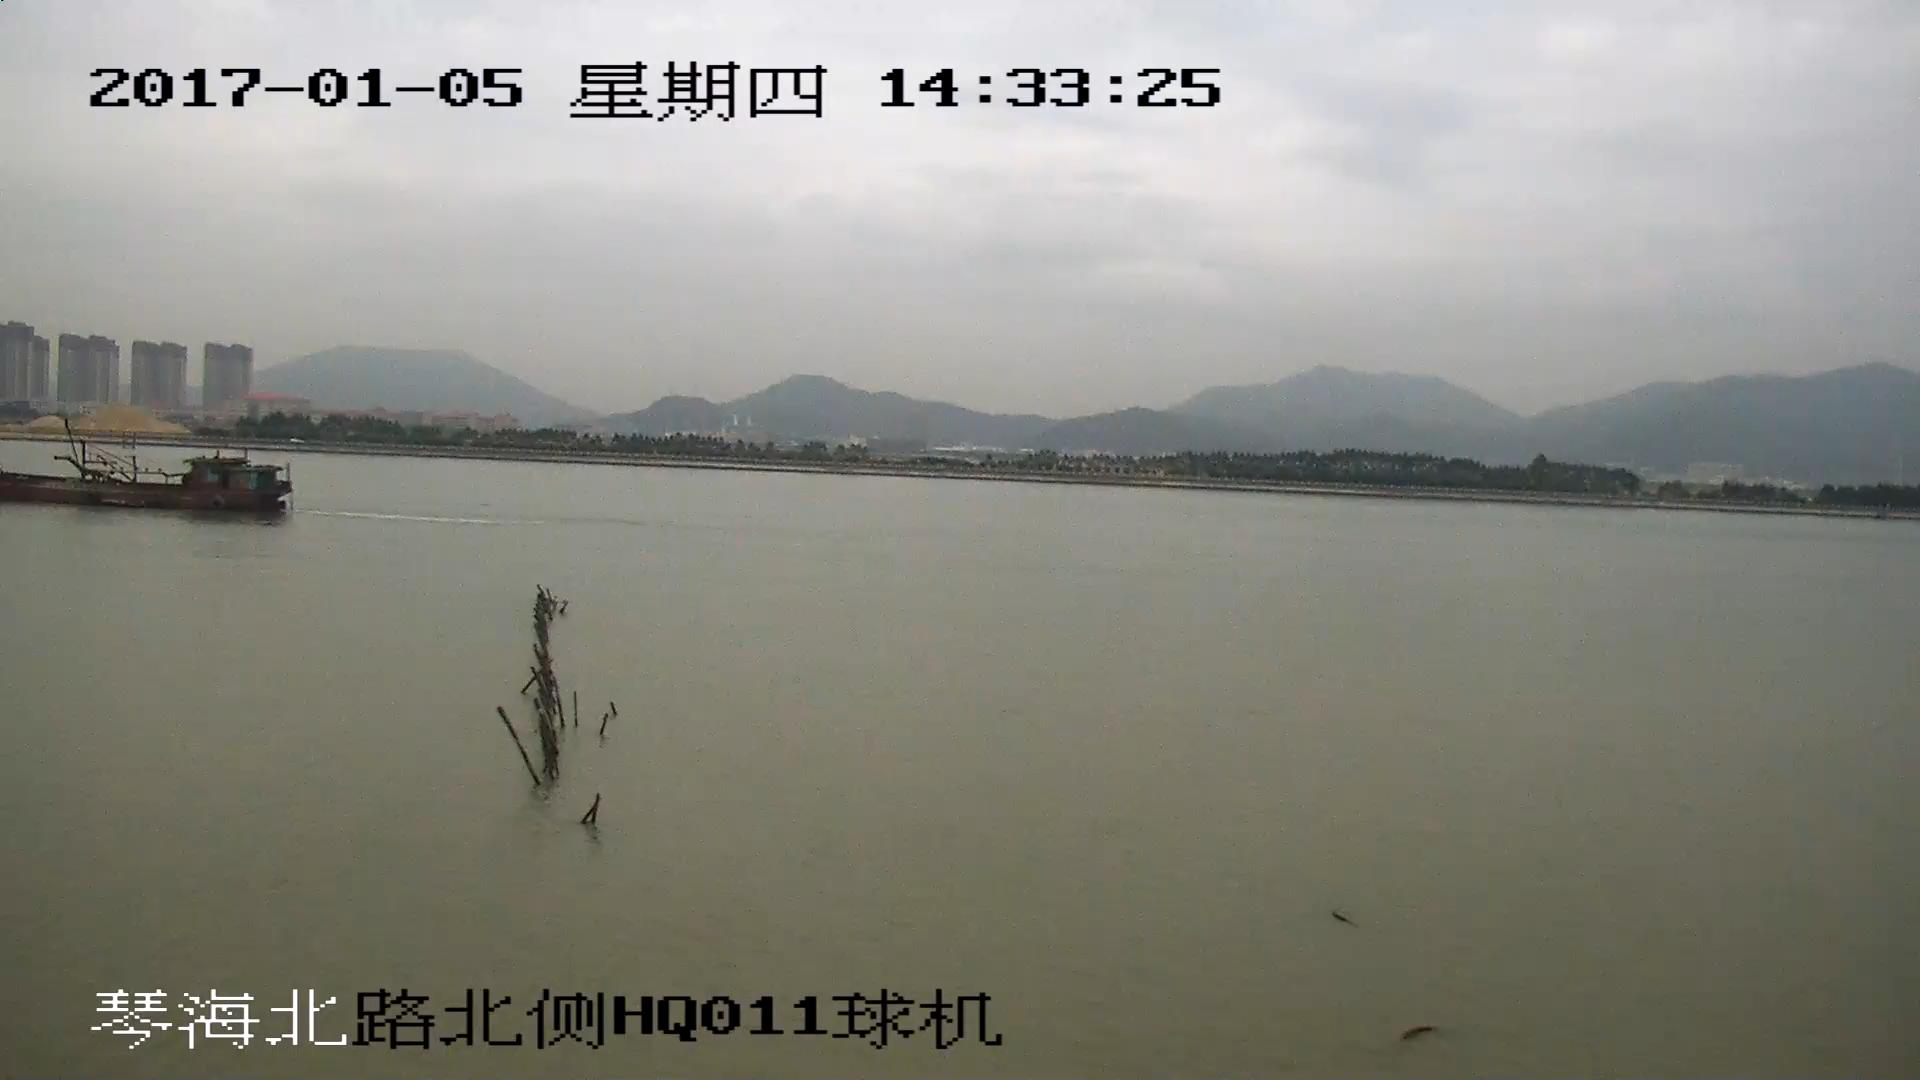fishing boat: (1, 435, 301, 515)
